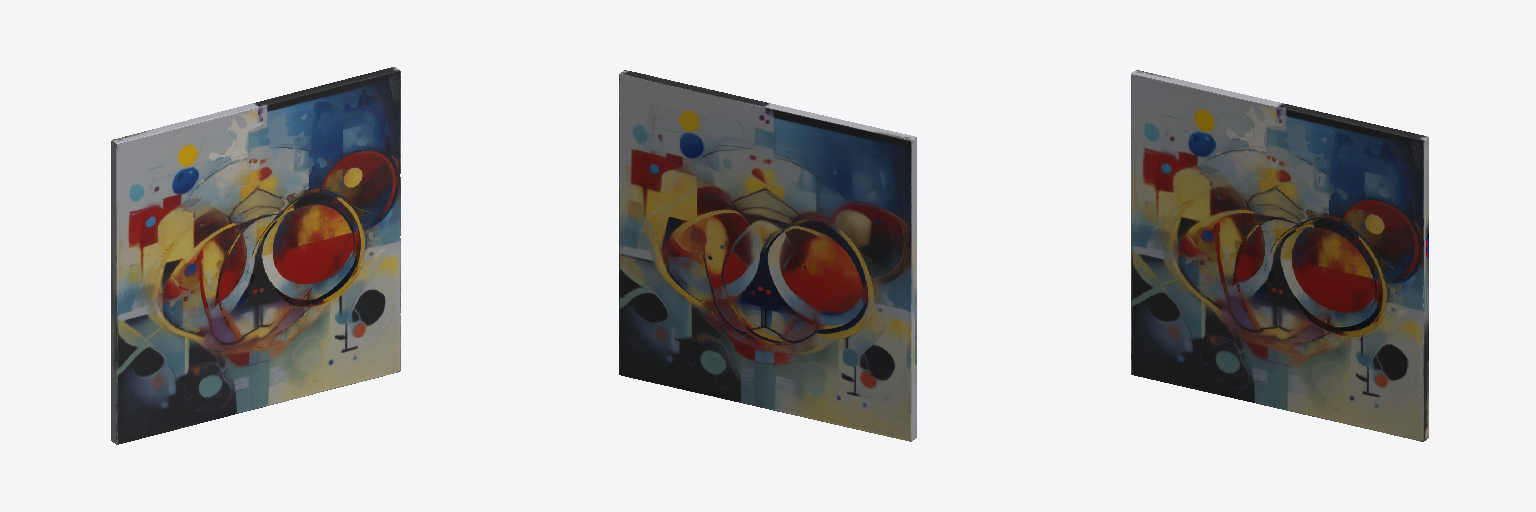
The picture shows the model from 3 angles: view 1: azimuth 30°, elevation 25°; view 2: azimuth 150°, elevation 25°; view 3: azimuth 330°, elevation 25°; orthographic projection.
Visible parts, largest first — view 1: cuadronuevo7; view 2: cuadronuevo7; view 3: cuadronuevo7.
Part boxes in pixels (left/top/right/bottom): cuadronuevo7: left=111, top=67, right=400, bottom=444; cuadronuevo7: left=619, top=70, right=916, bottom=441; cuadronuevo7: left=1131, top=70, right=1428, bottom=441.
Size of the model in its own units: 11.54 by 11.52 by 0.7075.
1 materials, 1 textured.